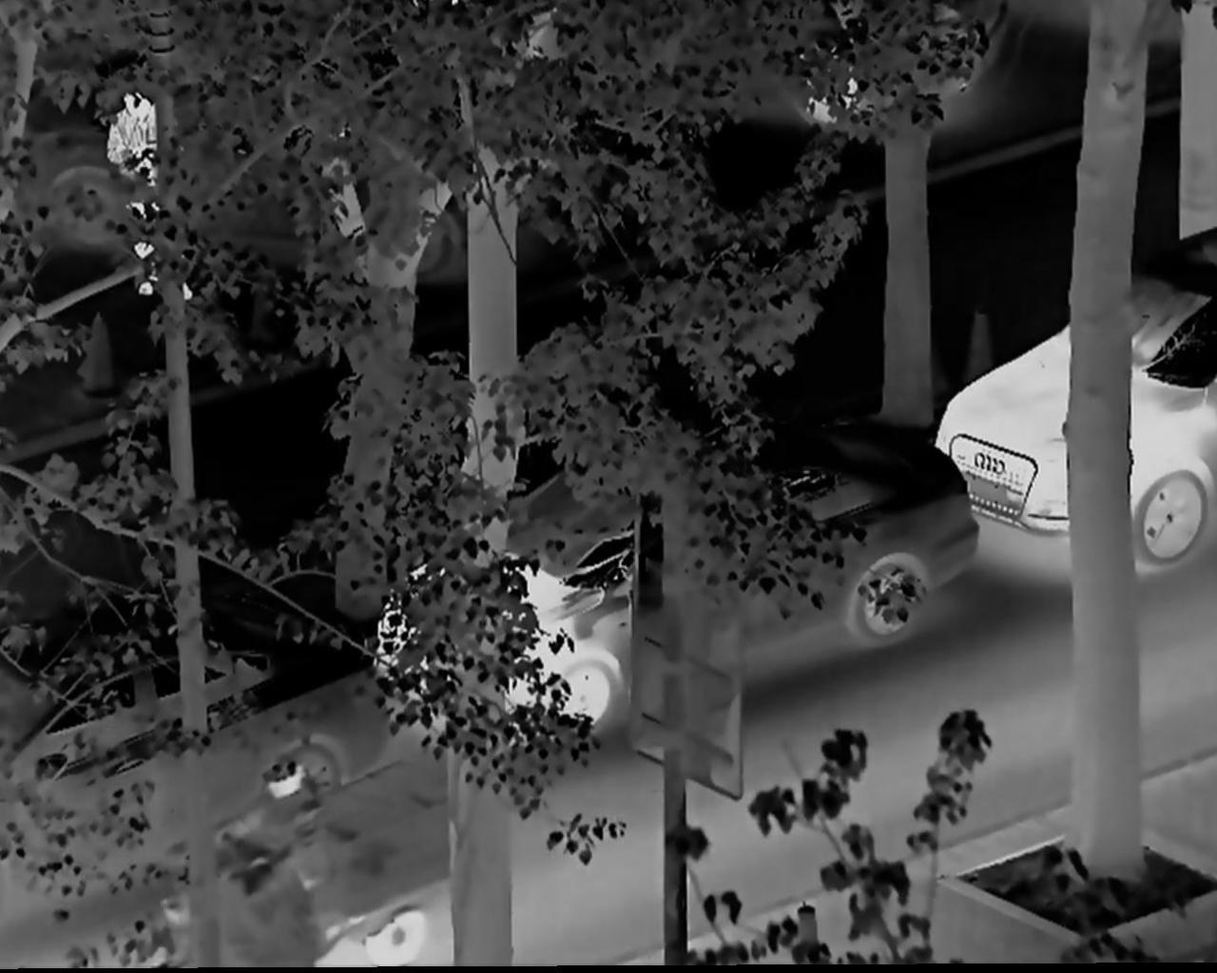person: (103, 79, 197, 311)
